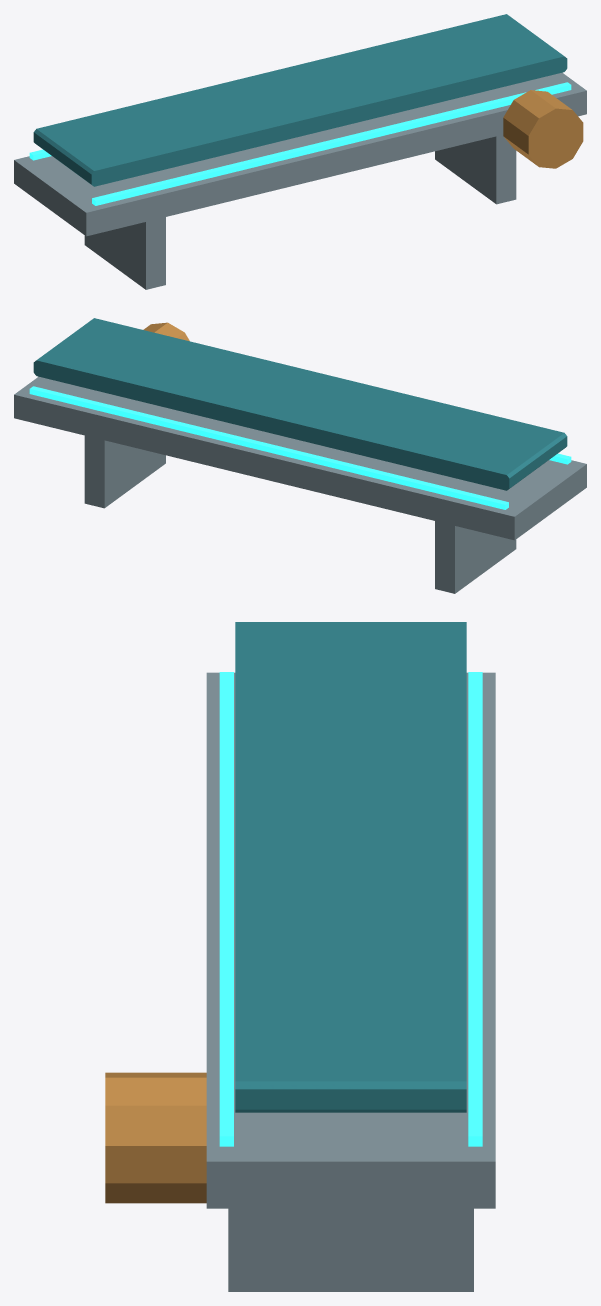
The model's file is Frontier_MiningConveyor.glb.
3 views of the same model, one above another, from view 1: azimuth 30°, elevation 25°; view 2: azimuth 150°, elevation 25°; view 3: azimuth 270°, elevation 25° (orthographic). The views are drawn at different scales.
Visible parts, largest first — view 1: Frontier_MiningConveyor_Belt, Frontier_MiningConveyor_Frame, Frontier_MiningConveyor_Legs, Frontier_MiningConveyor_Motor; view 2: Frontier_MiningConveyor_Belt, Frontier_MiningConveyor_Frame, Frontier_MiningConveyor_Legs, Frontier_MiningConveyor_Motor; view 3: Frontier_MiningConveyor_Belt, Frontier_MiningConveyor_Frame, Frontier_MiningConveyor_Legs, Frontier_MiningConveyor_Motor.
Boxes of the visible parts, <box> form: Frontier_MiningConveyor_Belt: <box>29,14,571,205</box>; Frontier_MiningConveyor_Frame: <box>14,72,586,236</box>; Frontier_MiningConveyor_Legs: <box>84,135,516,289</box>; Frontier_MiningConveyor_Motor: <box>503,90,583,168</box>; Frontier_MiningConveyor_Belt: <box>29,318,571,509</box>; Frontier_MiningConveyor_Frame: <box>14,376,586,540</box>; Frontier_MiningConveyor_Legs: <box>84,435,516,593</box>; Frontier_MiningConveyor_Motor: <box>143,322,189,341</box>; Frontier_MiningConveyor_Belt: <box>219,622,482,1146</box>; Frontier_MiningConveyor_Frame: <box>206,672,495,1208</box>; Frontier_MiningConveyor_Legs: <box>228,1208,473,1291</box>; Frontier_MiningConveyor_Motor: <box>105,1072,206,1203</box>.
Size of the model in its own units: 4 by 0.99 by 1.35.
